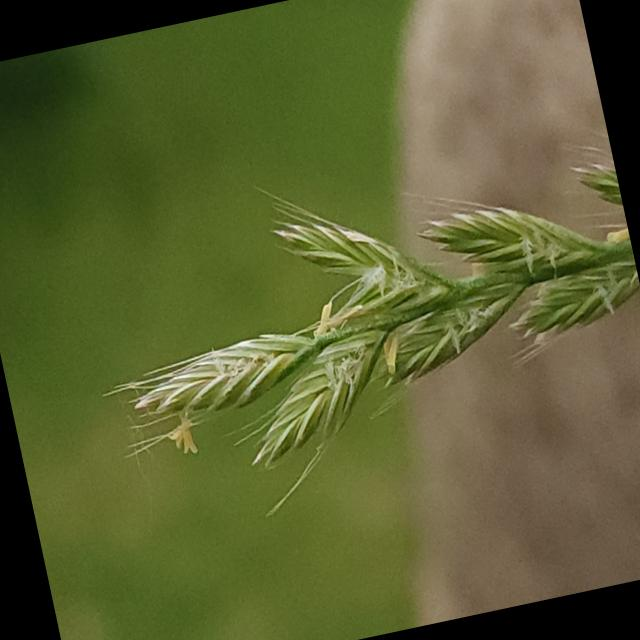Lolium: (63, 111, 640, 549)
